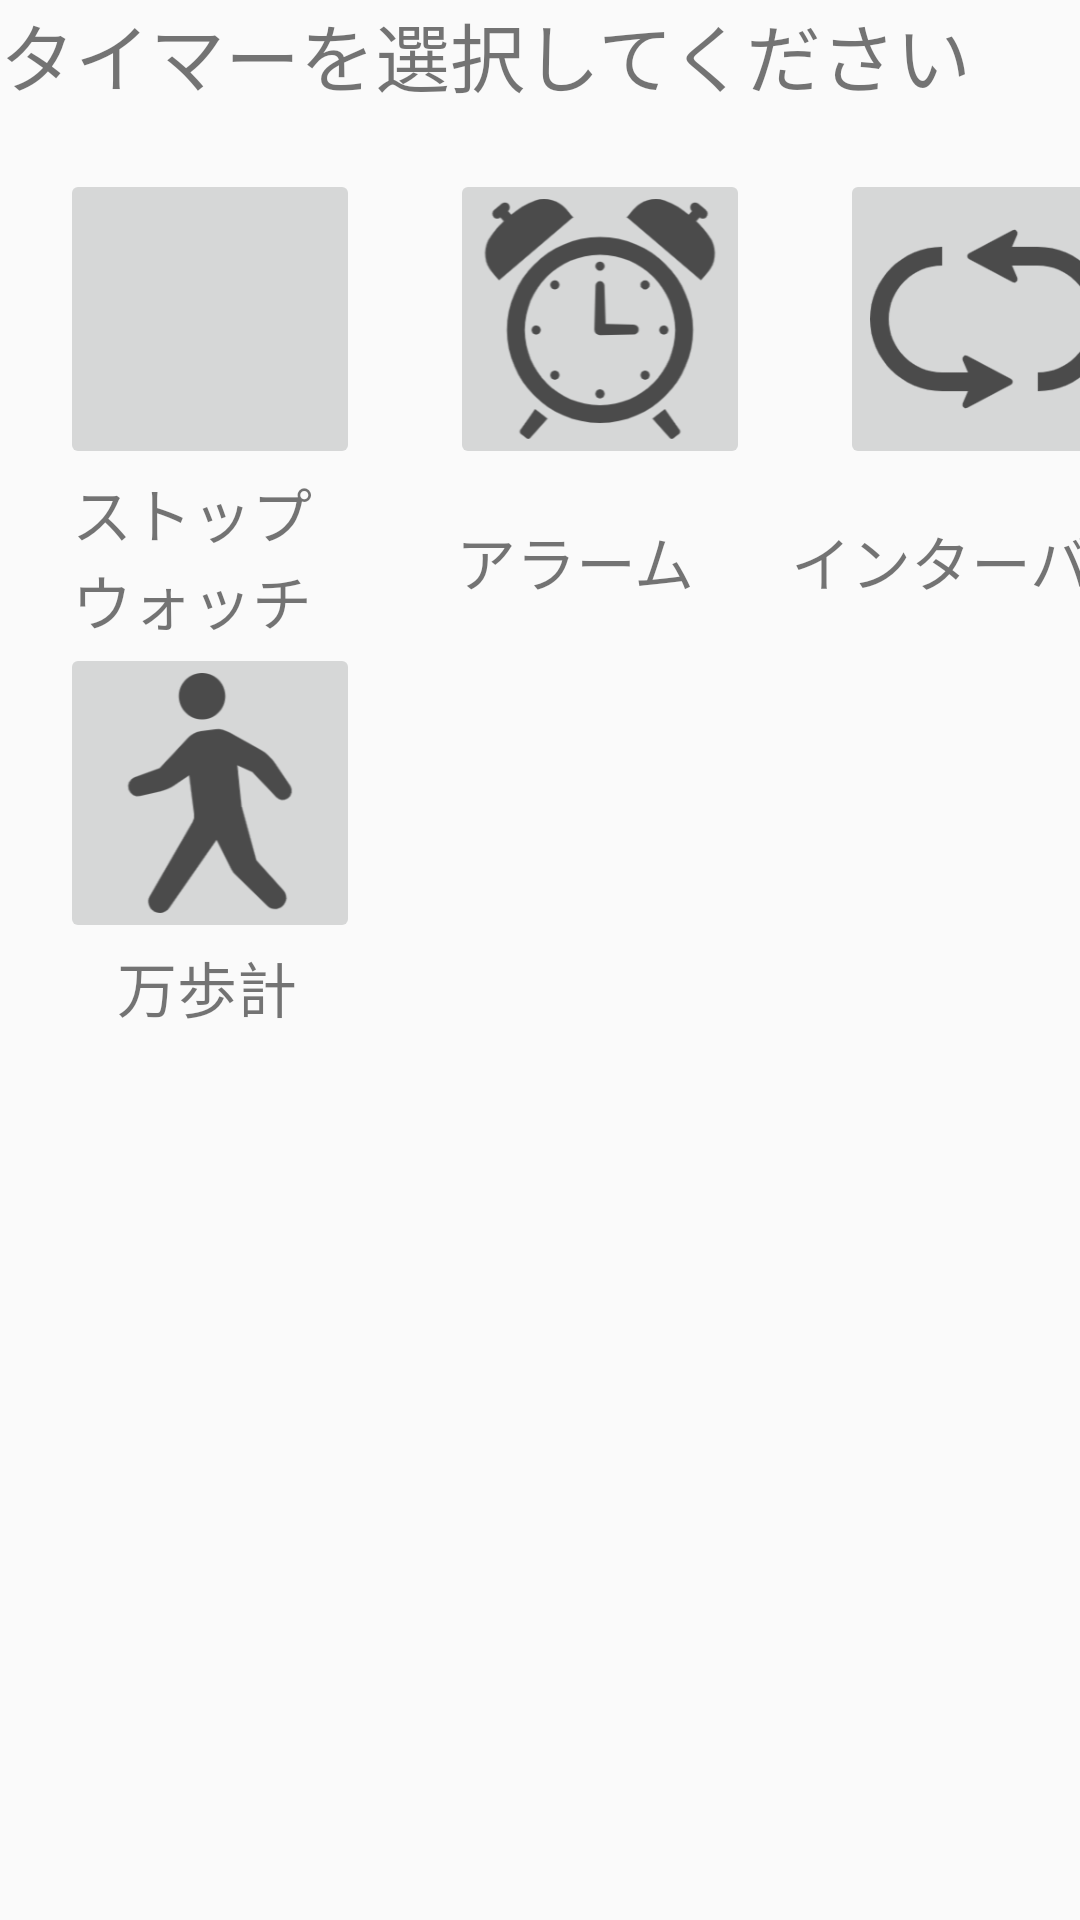

Screen size 1080 × 1920. Icon name, then its center in pixels as (x=x, y=y):
walking: (x=210, y=793)
